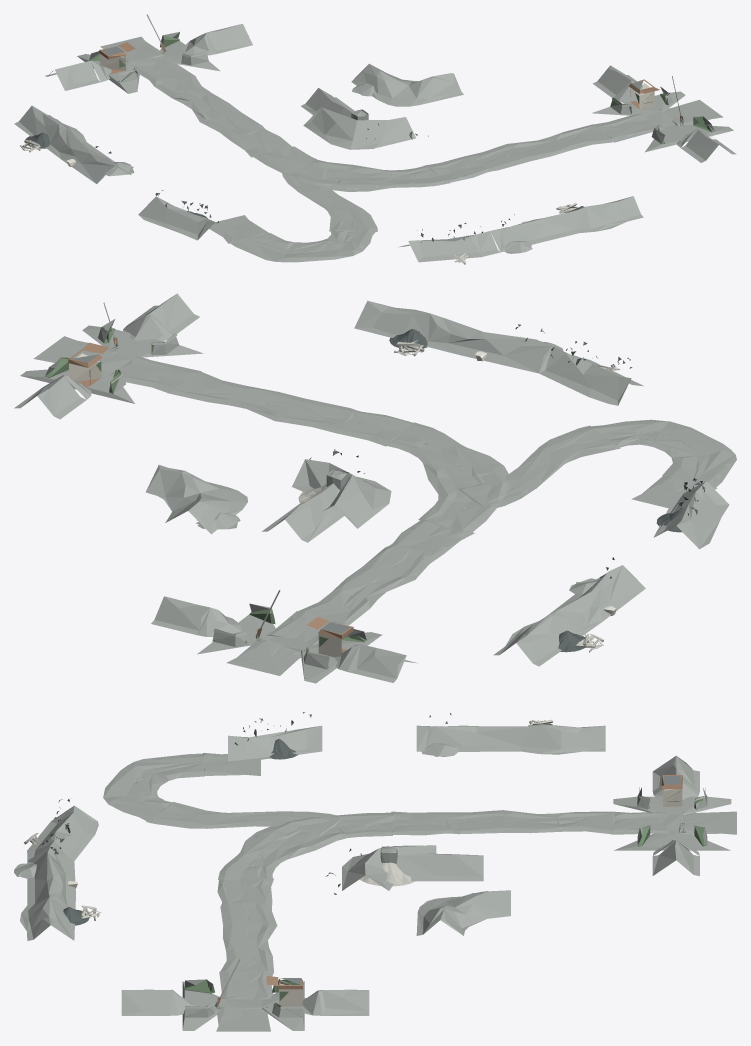
File: desert_military_base_a.glb
3 views of the same model, one above another, from view 1: azimuth 30°, elevation 25°; view 2: azimuth 150°, elevation 25°; view 3: azimuth 270°, elevation 25° (orthographic). The views are drawn at different scales.
Parts seen in each view (by area): view 1: dirt_mound_1200_LOD0, checkpoint_single_rural_LOD0, cave_gravel_a_LOD0, barbedwire_set_straight300_LOD0; view 2: dirt_mound_1200_LOD0, checkpoint_single_rural_LOD0, barbedwire_set_straight300_LOD0, cave_gravel_a_LOD0; view 3: dirt_mound_1200_LOD0, checkpoint_single_rural_LOD0, cave_gravel_a_LOD0, barbedwire_set_straight300_LOD0.
Part boxes in pixels (x1,y1,x2,y2): dirt_mound_1200_LOD0: (14,23,736,262); checkpoint_single_rural_LOD0: (89,35,713,144); cave_gravel_a_LOD0: (20,14,681,264); barbedwire_set_straight300_LOD0: (25,123,583,242); dirt_mound_1200_LOD0: (14,293,736,683); checkpoint_single_rural_LOD0: (45,327,365,669); barbedwire_set_straight300_LOD0: (309,324,705,652); cave_gravel_a_LOD0: (100,302,619,659); dirt_mound_1200_LOD0: (14,724,736,1031); checkpoint_single_rural_LOD0: (184,775,706,1016); cave_gravel_a_LOD0: (24,719,705,1008); barbedwire_set_straight300_LOD0: (42,712,550,925).
Size of the model in its own units: 93.71 by 8.36 by 91.89.
